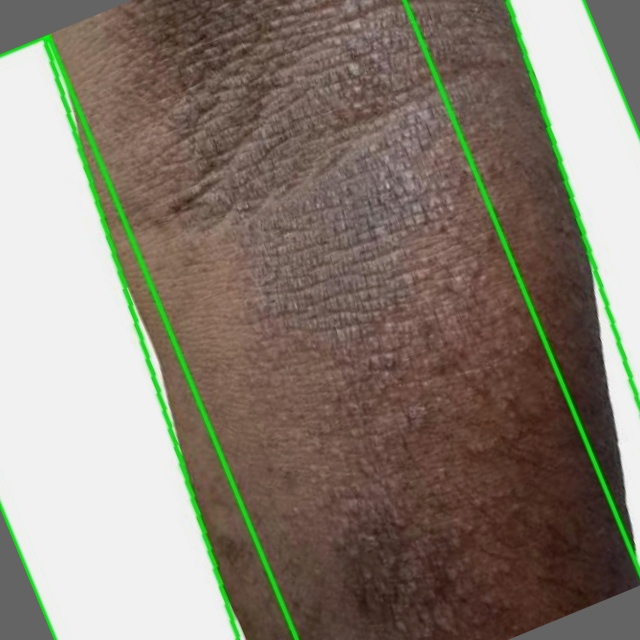Eczema: (45, 0, 639, 639), (0, 35, 296, 639)
